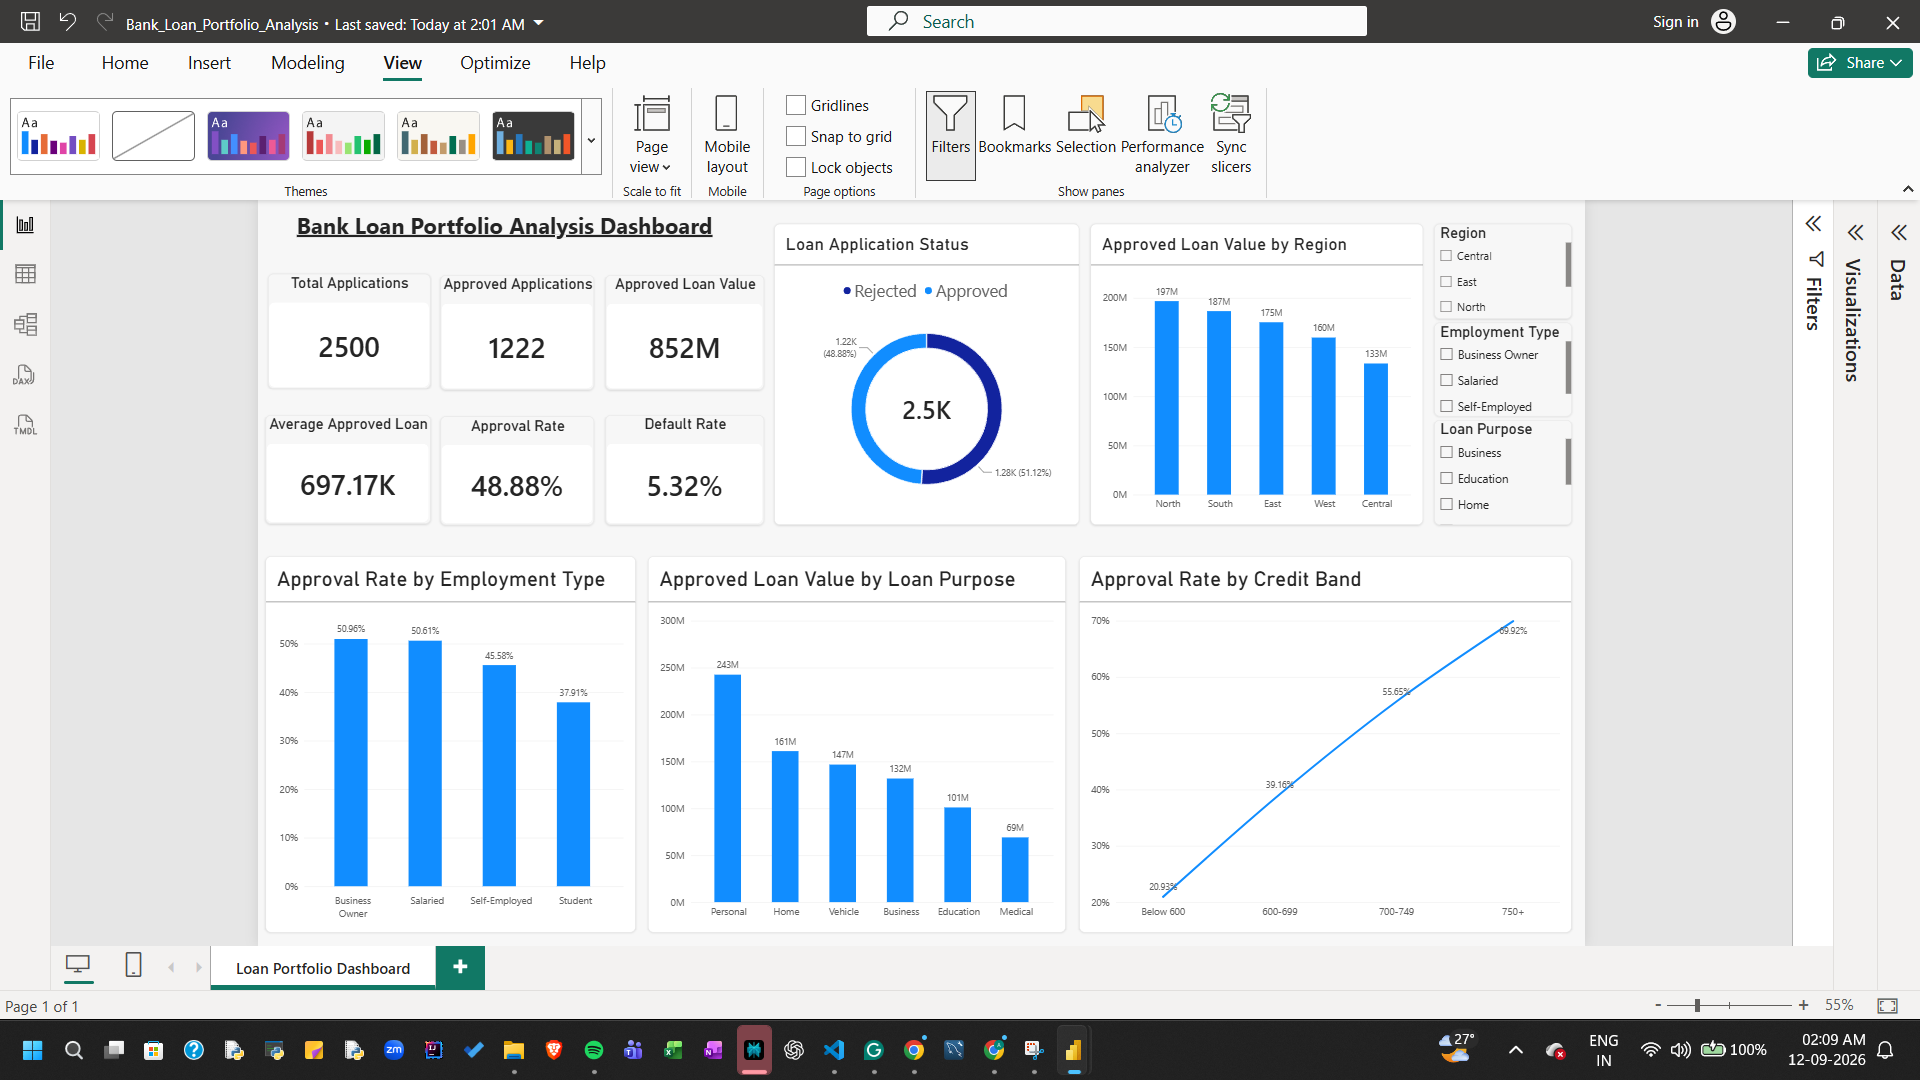

This screenshot's page, from the dashboard's own definition file:
{"tool":"powerbi","page":{"name":"Loan Portfolio Dashboard","canvas":[1920,1080],"ordinal":0},"visuals":[{"type":"cardVisual","title":"Total Applications","fields":{"Data":["CountNonNull(loan_data.Loan_ID)"]},"box":[14.5,106.8,235.3,166.5],"z":0},{"type":"cardVisual","title":"Approved Applications","fields":{"Data":["loan_data.Approved Applications"]},"box":[264.2,108.6,222.6,166.5],"z":1000},{"type":"cardVisual","title":"Approval Rate","fields":{"Data":["loan_data.Approval Rate"]},"box":[264.2,313.1,222.6,157.4],"z":2000},{"type":"cardVisual","title":"Approved Loan Value","fields":{"Data":["loan_data.Approved Loan Value"]},"box":[503.1,108.6,229.8,166.5],"z":3000},{"type":"cardVisual","title":"Average Approved Loan","fields":{"Data":["loan_data.Average Approved Loan"]},"box":[10.9,311.3,238.9,157.4],"z":4000},{"type":"cardVisual","title":"Default Rate","fields":{"Data":["loan_data.Default Rate"]},"box":[503.1,311.3,229.8,159.3],"z":5000},{"type":"columnChart","title":"Approval Rate by Employment Type","fields":{"Category":["loan_data.Employment_Type"],"Y":["loan_data.Approval Rate"]},"box":[10.9,515.8,535.7,544.7],"z":6000},{"type":"clusteredColumnChart","title":"Approved Loan Value by Loan Purpose","fields":{"Category":["loan_data.Loan_Purpose"],"Y":["loan_data.Approved Loan Value"]},"box":[564.6,515.8,604.4,544.7],"z":7000},{"type":"donutChart","title":"Loan Application Status","fields":{"Category":["loan_data.Loan_Status"],"Y":["CountNonNull(loan_data.Loan_ID)"]},"box":[747.4,34.4,441.6,436.1],"z":8000},{"type":"lineChart","fields":{"Category":["loan_data.Credit Band"],"Y":["loan_data.Approval Rate"]},"box":[1188.9,515.8,713,544.7],"z":9000},{"type":"columnChart","title":"Approved Loan Value by Region","fields":{"Category":["loan_data.Region"],"Y":["loan_data.Approved Loan Value"]},"box":[1205.2,34.4,481.4,436.1],"z":10000},{"type":"slicer","title":"Region","fields":{"Values":["loan_data.Region"]},"box":[1702.9,34.4,199.1,137.5],"z":11000},{"type":"slicer","fields":{"Values":["loan_data.Employment_Type"]},"box":[1702.9,177.3,199.1,135.7],"z":12000},{"type":"slicer","title":"Loan Purpose","fields":{"Values":["loan_data.Loan_Purpose"]},"box":[1702.9,318.5,199.1,152],"z":13000},{"type":"textbox","box":[55.8,15,618,83.7],"z":14000}]}

Visuals, with their boxes on the page's 1920x1080 design canvas (x1, y1, x2, y2). These are canvas units, not pixel positions in the 1920x1080 screenshot, which may show the page scaled, cropped or inside an application window:
"Total Applications" cardVisual: detection(14, 107, 250, 273)
"Approved Applications" cardVisual: detection(264, 109, 487, 275)
"Approval Rate" cardVisual: detection(264, 313, 487, 470)
"Approved Loan Value" cardVisual: detection(503, 109, 733, 275)
"Average Approved Loan" cardVisual: detection(11, 311, 250, 469)
"Default Rate" cardVisual: detection(503, 311, 733, 471)
"Approval Rate by Employment Type" columnChart: detection(11, 516, 547, 1060)
"Approved Loan Value by Loan Purpose" clusteredColumnChart: detection(565, 516, 1169, 1060)
"Loan Application Status" donutChart: detection(747, 34, 1189, 470)
lineChart - loan_data.Credit Band x loan_data.Approval Rate: detection(1189, 516, 1902, 1060)
"Approved Loan Value by Region" columnChart: detection(1205, 34, 1687, 470)
"Region" slicer: detection(1703, 34, 1902, 172)
slicer - loan_data.Employment_Type: detection(1703, 177, 1902, 313)
"Loan Purpose" slicer: detection(1703, 318, 1902, 470)
textbox: detection(56, 15, 674, 99)
